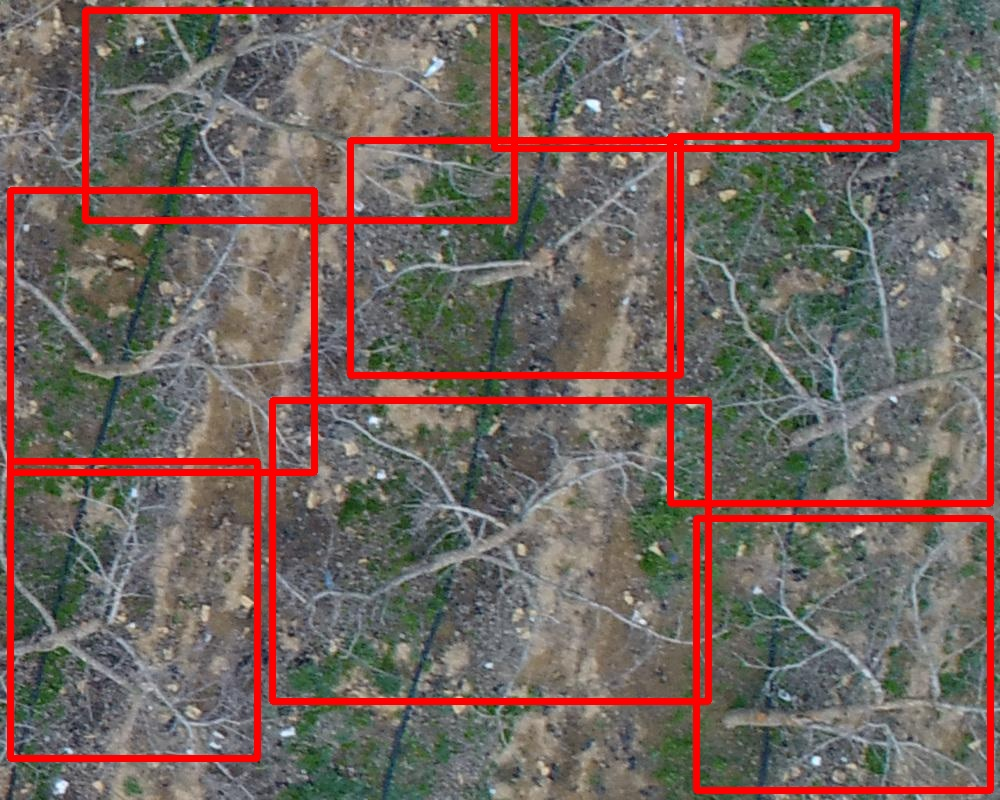apple: (272, 400, 708, 701), (670, 136, 990, 503), (85, 10, 514, 220), (10, 190, 314, 472), (696, 518, 990, 790), (350, 140, 680, 375), (10, 461, 257, 758), (494, 10, 896, 148)
